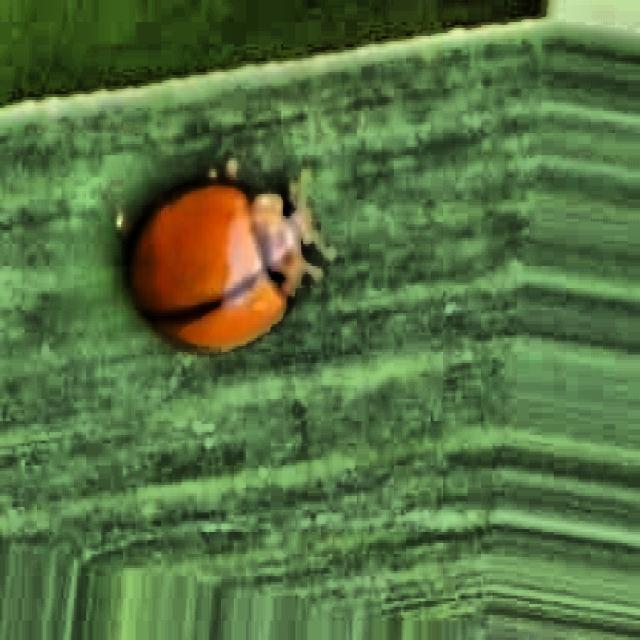Ladybug: (104, 140, 338, 355)
